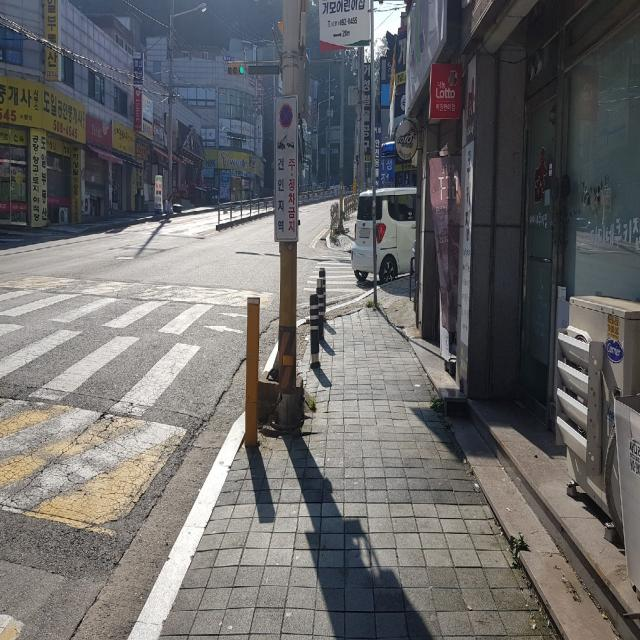횡단보도: (1, 276, 245, 538), (302, 254, 380, 294)
